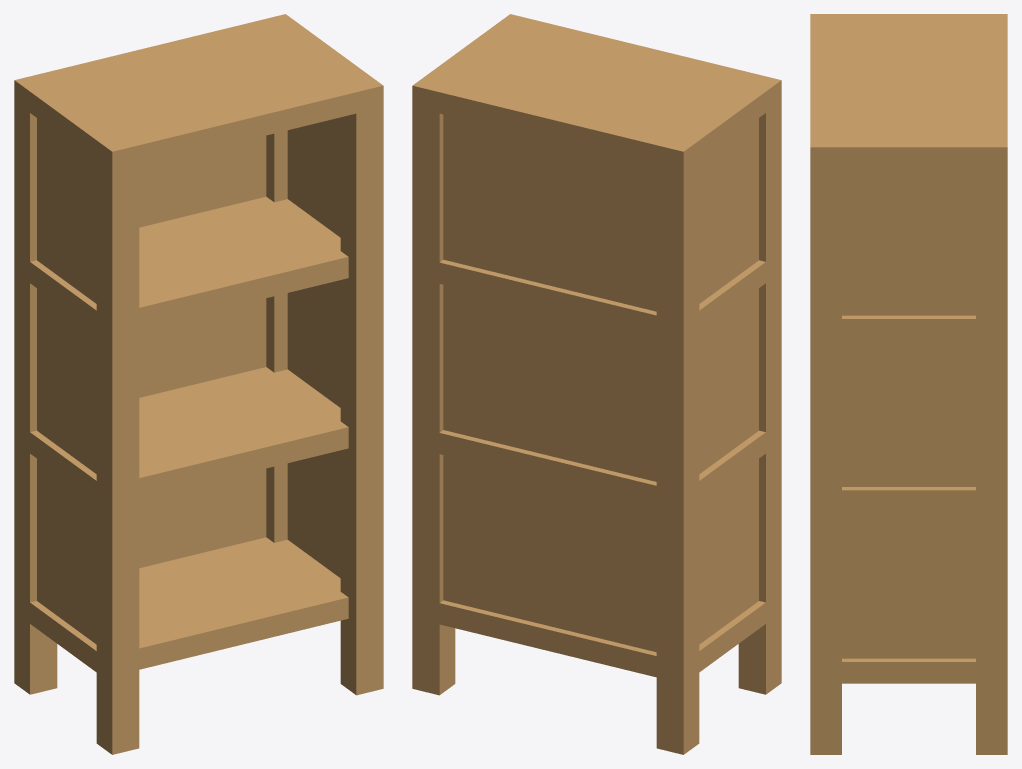
The model's file is f_bookcase.glb.
3 views of the same model, side by side, from view 1: azimuth 30°, elevation 25°; view 2: azimuth 150°, elevation 25°; view 3: azimuth 270°, elevation 25° (orthographic).
Parts seen in each view (by area): view 1: body, surface_4, surface_1, surface_3; view 2: body, surface_4; view 3: body.
Part boxes in pixels (box(x1,y1,x2,y2)): body: box(14, 14, 383, 754); surface_4: box(25, 19, 372, 146); surface_1: box(141, 537, 344, 620); surface_3: box(164, 196, 314, 231); body: box(412, 14, 781, 754); surface_4: box(423, 18, 769, 146); body: box(810, 14, 1007, 754).
Bounding box in the file's own units: 0.8 × 1.7 × 0.5.
